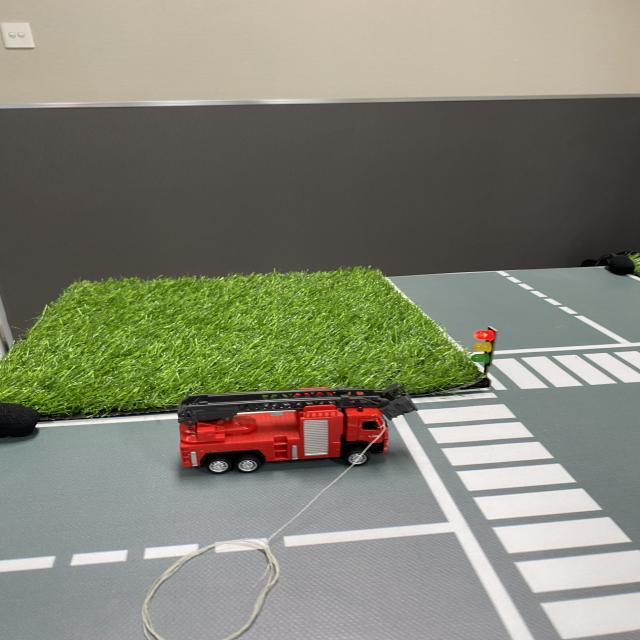Fire Truck: (170, 379, 423, 478)
